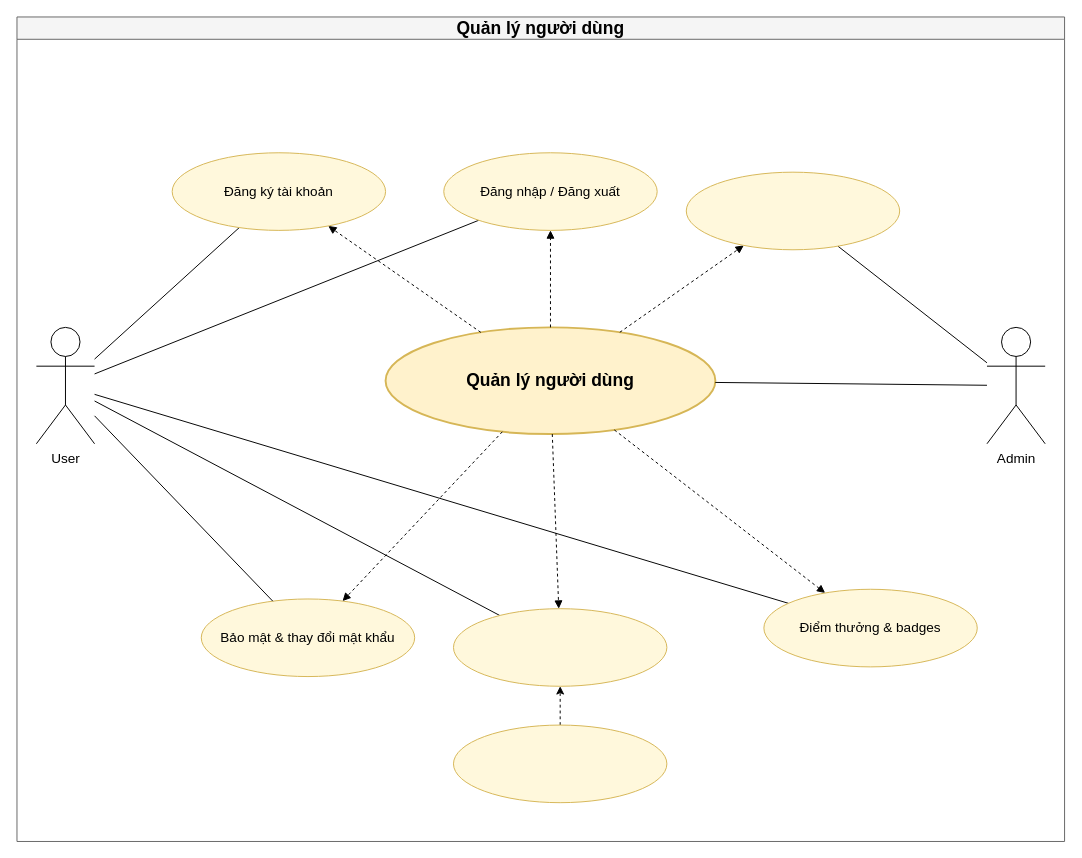
The diagram is 1082 pixels wide and 858 high, and some of its shapes have lost their labels. The centre of each missing label's shape, as x and y in pixels:
"CRUD Thông tin cá nhân" goes at (560,763).
"Phân quyền & roles" goes at (792,210).
"Quản lý hồ sơ cá nhân" goes at (560,647).
